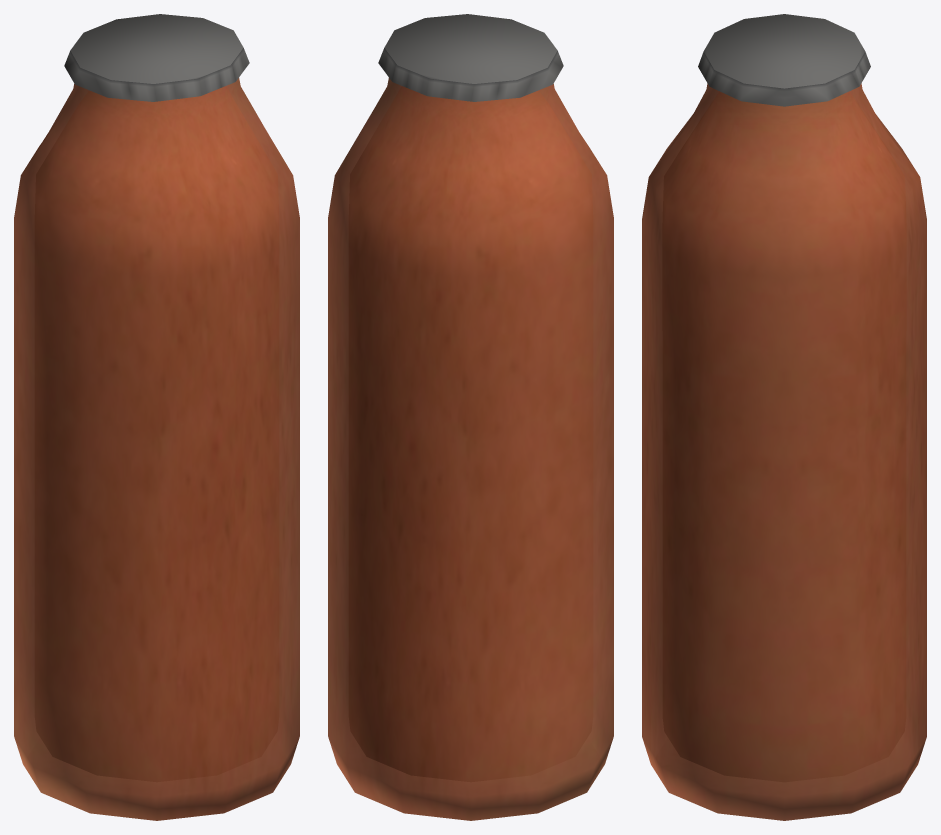
Rendered from drink02c.fbx.
The picture shows the model from 3 angles, left to right: view 1: azimuth 30°, elevation 25°; view 2: azimuth 150°, elevation 25°; view 3: azimuth 270°, elevation 25°; orthographic projection.
Visible parts, largest first — view 1: drink02c; view 2: drink02c; view 3: drink02c.
Boxes of the visible parts, box(x1,y1,x2,y2) form: drink02c: box(14, 14, 299, 820); drink02c: box(328, 14, 613, 820); drink02c: box(642, 14, 926, 820).
Size of the model in its own units: 7.1 by 19.62 by 7.1.
